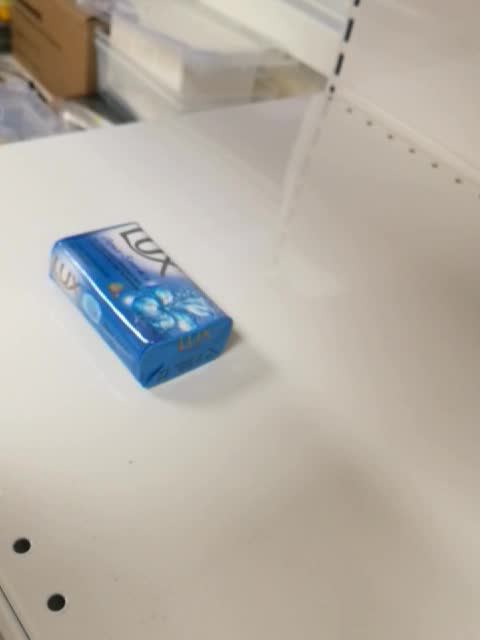soap: (46, 221, 235, 390)
